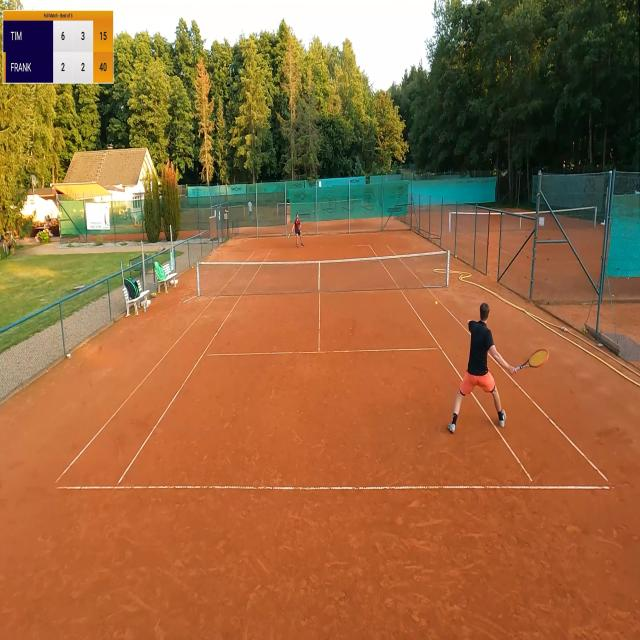tennis-player: (446, 296, 540, 451), (0, 0, 23, 11)
